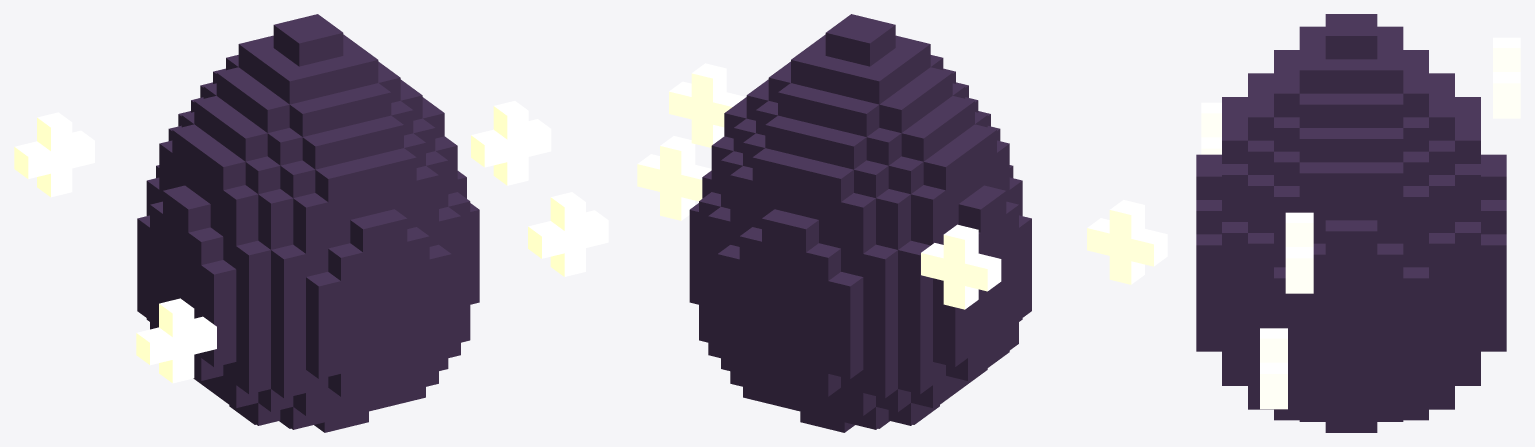
Rendered from Nebula_Egg.glb.
3 renders of one model, left to right at view 1: azimuth 30°, elevation 25°; view 2: azimuth 150°, elevation 25°; view 3: azimuth 270°, elevation 25°, orthographic.
Parts seen in each view (by area): view 1: Cube_copy_copy_copy_copy_copy_copy_copy_copy_copy_copy_copy_ (×52), Cube_copy_copy_copy_copy_7 copy copy (×2), Cube_copy_copy_copy_copy_7 copy copy copy (×2), Cube_copy_copy_copy_copy_7 copy copy copy copy (×2), Cube_copy_copy_copy_copy_7 copy, Cube_copy_copy_copy_copy_7 copy copy copy copy copy, Cube_copy_copy_copy_6, Cube_copy_copy_copy_2, Cube_copy_1, Cube_copy_copy_copy, Cube_copy_copy_copy_copy_copy_copy_copy_copy_copy, Cube_copy_copy_copy_copy_copy_5 (+20 smaller); view 2: Cube_copy_copy_copy_copy_copy_copy_copy_copy_copy_copy_copy_ (×66), Cube_copy_copy_copy_copy_7 copy copy (×2), Cube_copy_copy_copy_copy_7 copy copy copy copy (×2), Cube_copy_copy_copy_copy_7 copy copy copy (×2), Cube_copy_copy_copy_copy_7 copy, Cube_copy_copy_copy_copy_7 copy copy copy copy copy, Cube_copy_copy_copy_copy_copy_17, Cube_copy_copy_copy_20, Cube_copy_copy_copy_copy_copy_15, Cube_copy_copy_copy_copy_copy_copy_copy_25, Cube_copy_copy_1, Cube_copy_copy_copy_copy_copy_copy_21 (+46 smaller); view 3: Cube_copy_copy_copy_copy_copy_copy_copy_copy_copy_copy_copy_ (×72), Cube_copy_copy_copy_copy_7 copy copy copy (×2), Cube_copy_copy_copy_copy_7 copy copy copy copy (×2), Cube_copy_copy_copy_copy_7 copy copy (×2), Cube_copy_copy_copy_copy_7 copy copy copy copy copy, Cube_copy_copy_12, Cube_copy_copy_copy_13, Cube_copy_copy_copy_copy_9, Cube_copy_copy_8, Cube_copy_copy_copy_copy_4, Cube_copy_copy_copy_copy_6, Cube_copy_copy_copy_copy_copy_copy_12 (+62 smaller).
Boxes of the visible parts, bbox=[...] form: Cube_copy_copy_copy_copy_copy_copy_copy_copy_copy_copy_copy_ (×52): bbox=[172, 19, 416, 429]; Cube_copy_copy_copy_copy_7 copy copy (×2): bbox=[136, 101, 528, 365]; Cube_copy_copy_copy_copy_7 copy copy copy (×2): bbox=[37, 112, 551, 197]; Cube_copy_copy_copy_copy_7 copy copy copy copy (×2): bbox=[14, 130, 585, 276]; Cube_copy_copy_copy_copy_7 copy: bbox=[159, 298, 194, 383]; Cube_copy_copy_copy_copy_7 copy copy copy copy copy: bbox=[528, 210, 608, 258]; Cube_copy_copy_copy_6: bbox=[350, 214, 385, 252]; Cube_copy_copy_copy_2: bbox=[201, 260, 236, 297]; Cube_copy_1: bbox=[188, 227, 223, 265]; Cube_copy_copy_copy: bbox=[175, 195, 210, 232]; Cube_copy_copy_copy_copy_copy_copy_copy_copy_copy: bbox=[223, 185, 258, 222]; Cube_copy_copy_copy_copy_copy_5: bbox=[236, 240, 270, 278]; Cube_copy_copy_copy_copy_copy_copy_copy_copy_copy_copy_copy_ (×66): bbox=[708, 19, 996, 429]; Cube_copy_copy_copy_copy_7 copy copy (×2): bbox=[691, 63, 1167, 266]; Cube_copy_copy_copy_copy_7 copy copy copy copy (×2): bbox=[660, 136, 1001, 291]; Cube_copy_copy_copy_copy_7 copy copy copy (×2): bbox=[669, 81, 978, 309]; Cube_copy_copy_copy_copy_7 copy: bbox=[1109, 200, 1144, 284]; Cube_copy_copy_copy_copy_7 copy copy copy copy copy: bbox=[637, 154, 711, 201]; Cube_copy_copy_copy_copy_copy_17: bbox=[828, 272, 863, 309]; Cube_copy_copy_copy_20: bbox=[806, 243, 840, 280]; Cube_copy_copy_copy_copy_copy_15: bbox=[784, 214, 818, 252]; Cube_copy_copy_copy_copy_copy_copy_copy_25: bbox=[863, 244, 897, 282]; Cube_copy_copy_1: bbox=[958, 195, 993, 232]; Cube_copy_copy_copy_copy_copy_copy_21: bbox=[828, 300, 863, 332]; Cube_copy_copy_copy_copy_copy_copy_copy_copy_copy_copy_copy_ (×72): bbox=[1222, 25, 1480, 432]; Cube_copy_copy_copy_copy_7 copy copy copy (×2): bbox=[1285, 37, 1520, 280]; Cube_copy_copy_copy_copy_7 copy copy copy copy (×2): bbox=[1260, 72, 1520, 409]; Cube_copy_copy_copy_copy_7 copy copy (×2): bbox=[1201, 137, 1313, 293]; Cube_copy_copy_copy_copy_7 copy copy copy copy copy: bbox=[1260, 362, 1287, 396]; Cube_copy_copy_12: bbox=[1377, 243, 1403, 278]; Cube_copy_copy_copy_13: bbox=[1325, 220, 1351, 254]; Cube_copy_copy_copy_copy_9: bbox=[1351, 220, 1377, 254]; Cube_copy_copy_8: bbox=[1196, 200, 1221, 234]; Cube_copy_copy_copy_copy_4: bbox=[1196, 165, 1221, 199]; Cube_copy_copy_copy_copy_6: bbox=[1196, 234, 1221, 268]; Cube_copy_copy_copy_copy_copy_copy_12: bbox=[1222, 222, 1247, 256].
Size of the model in its own units: 2.2 by 1.6 by 1.25.
